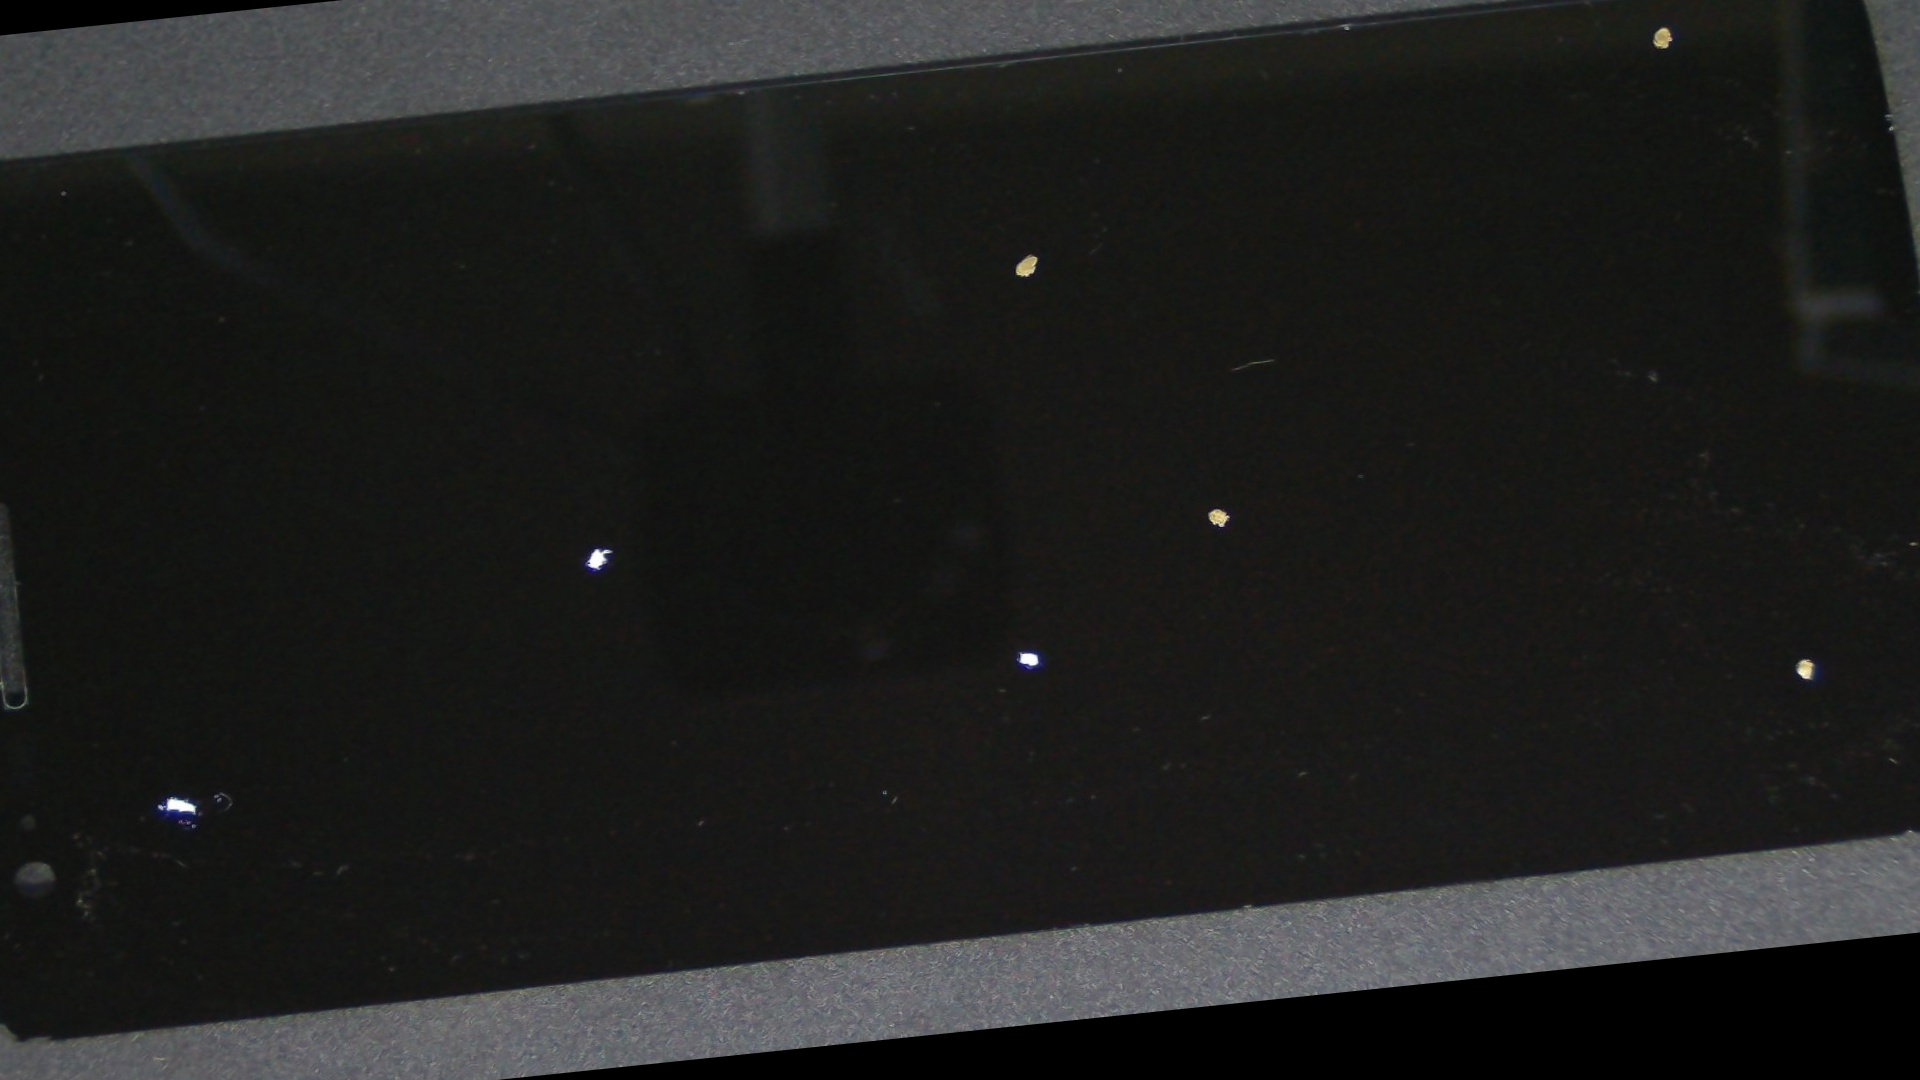oil: (382, 231, 1648, 1068), (484, 137, 1920, 873), (778, 232, 1920, 1043), (390, 28, 1667, 479), (174, 222, 1021, 870), (0, 393, 365, 1080), (708, 0, 1920, 203)
